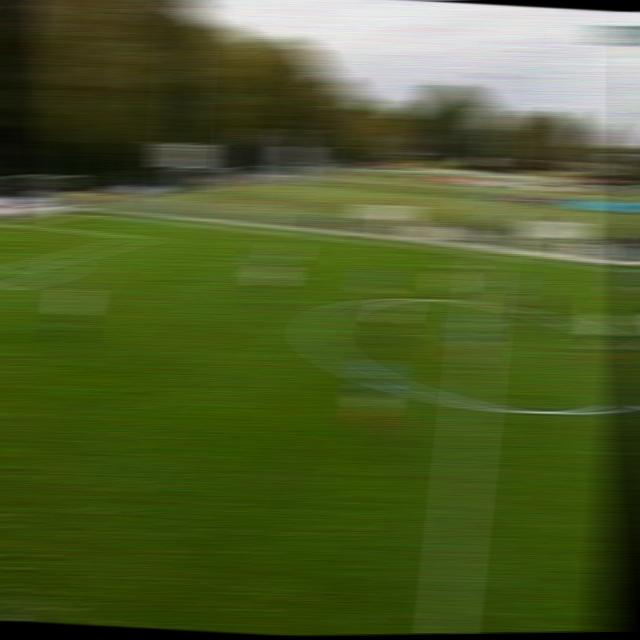bigarea_top_inner: (132, 232, 158, 244)
bigarea_top_outter: (0, 220, 26, 228)
corner: (69, 210, 93, 218)
halfcircle_bottom: (456, 394, 486, 415)
halfcircle_top: (469, 296, 495, 312)
midline_top_intersection: (476, 251, 500, 261)
top_arc_area_intersection: (48, 252, 72, 264)
